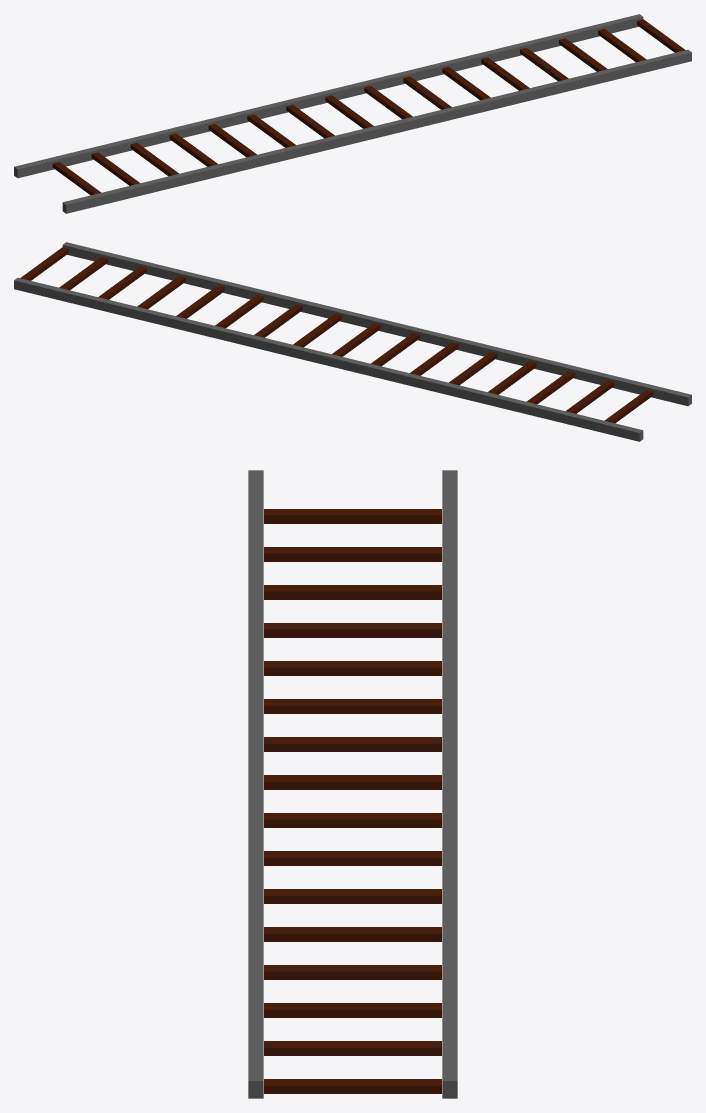
Rendered from Rail_straight_1.fbx.
The picture shows the model from 3 angles, top to bottom: view 1: azimuth 30°, elevation 25°; view 2: azimuth 150°, elevation 25°; view 3: azimuth 270°, elevation 25°; orthographic projection. The views are drawn at different scales.
Parts seen in each view (by area): view 1: RailBar 1; view 2: RailBar 1; view 3: RailBar 1.
Part boxes in pixels (x1,y1,x2,y2): RailBar 1: [14, 14, 691, 213]; RailBar 1: [14, 242, 691, 441]; RailBar 1: [248, 470, 457, 1098].
Size of the model in its own units: 3204 by 43.13 by 464.
